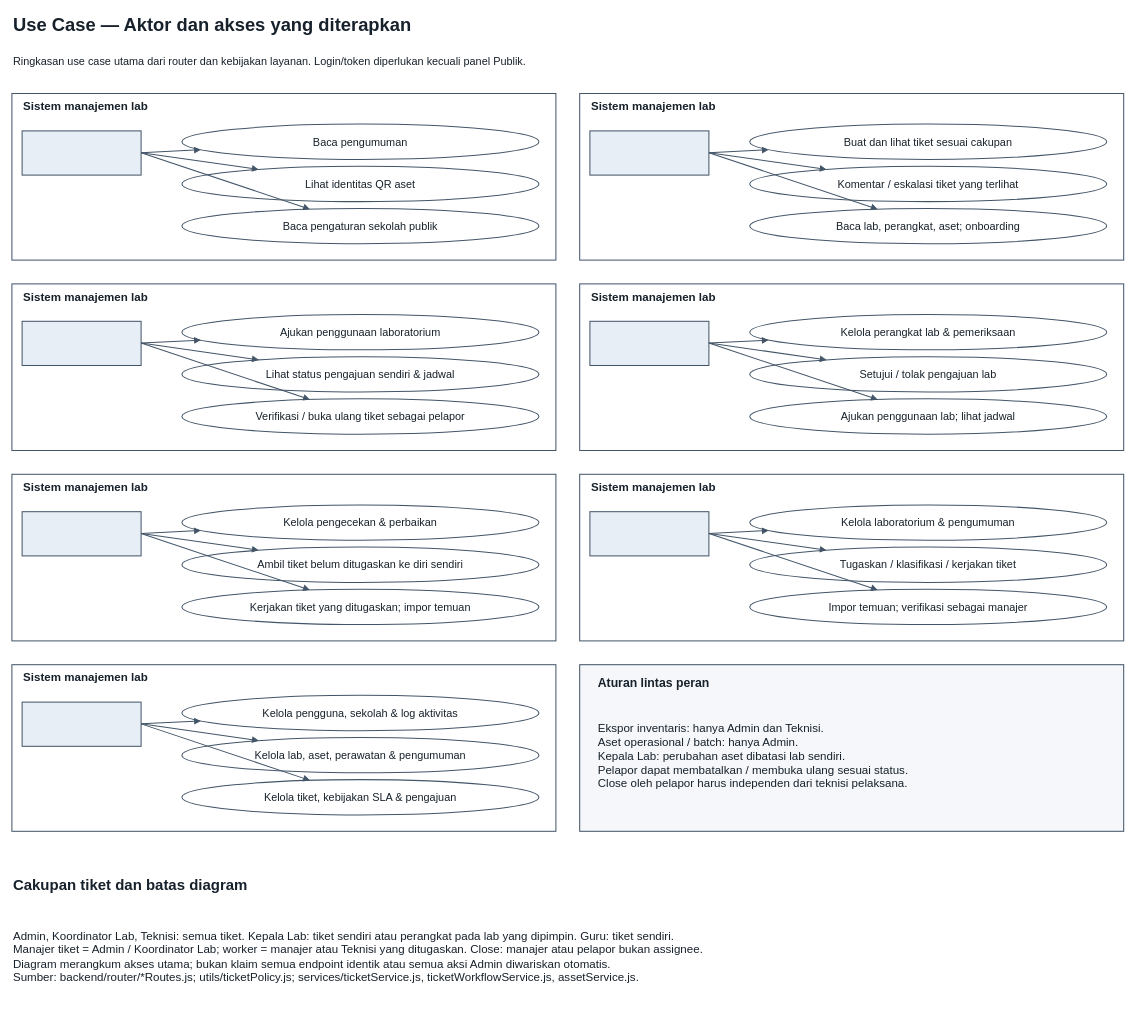
Some shapes in this 1146 by 1019 pixel diagram are drawn without their labels. Here are the shapes that lost their labels. From the top down, the centre of each, then its label:
At [81,152]: "Publik (tanpa login)".
At [649,152]: "Semua pengguna terautentikasi".
At [81,343]: "Guru".
At [649,343]: "Kepala Lab".
At [81,533]: "Teknisi".
At [649,533]: "Koordinator Lab".
At [81,724]: "Admin".
